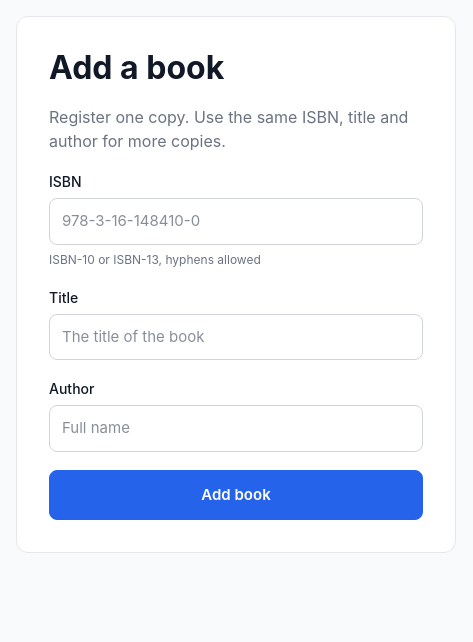
it: AddBookPage › shows inline errors and sends nothing while the form is invalid
Step 1. Click the button "Add book" → [236, 495], box [49,470,423,520]
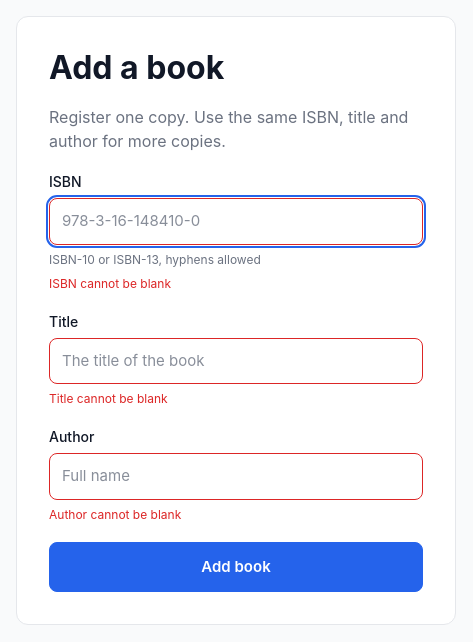
Expected: the text "Title cannot be blank" is shown, [49,391,168,406]
